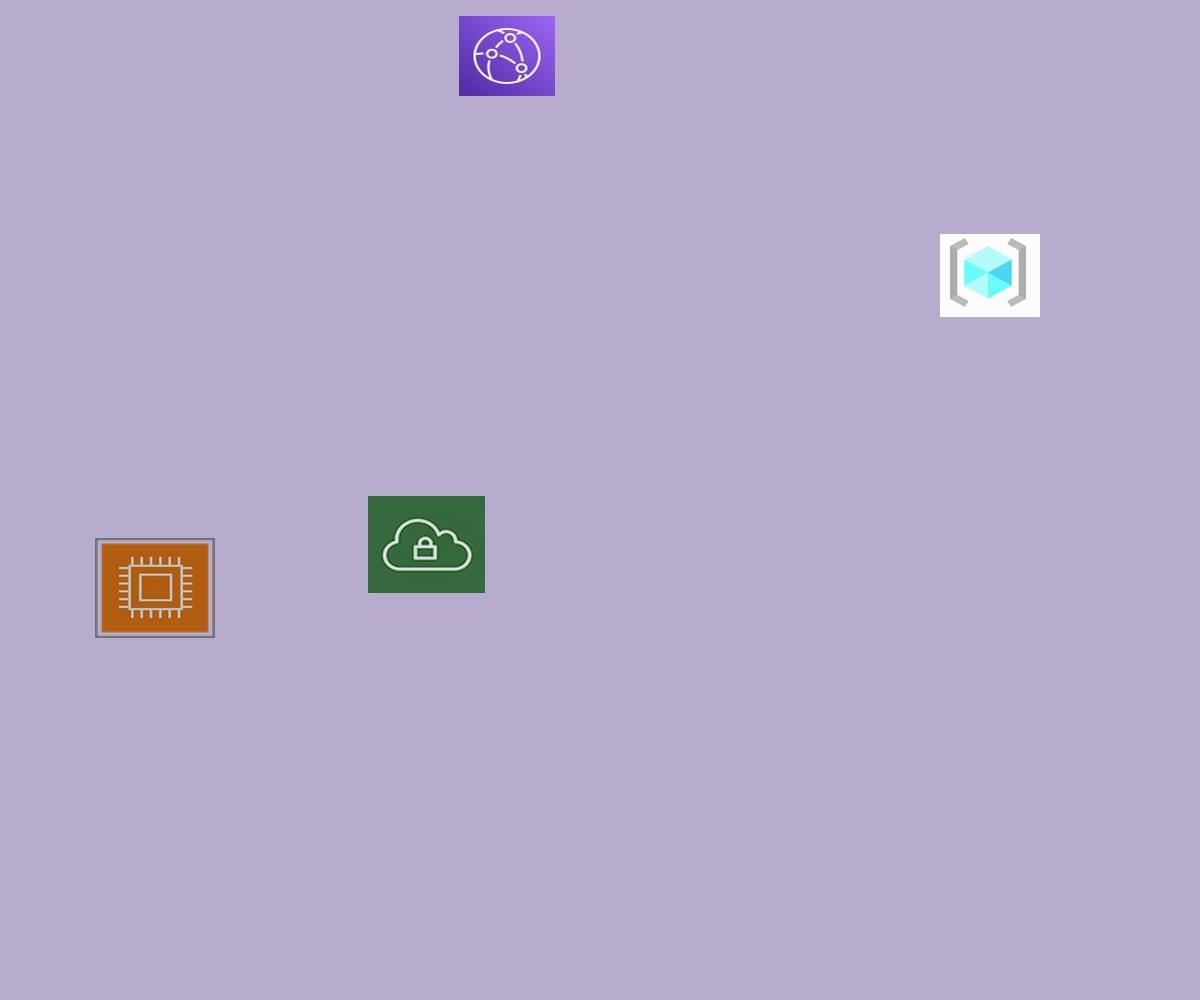AWS-Category_Compute: (95, 538, 215, 638)
AWS-CloudFront: (459, 16, 555, 96)
AWS-Private_vpc: (368, 496, 485, 593)
Azure_resource_group: (940, 234, 1040, 317)
